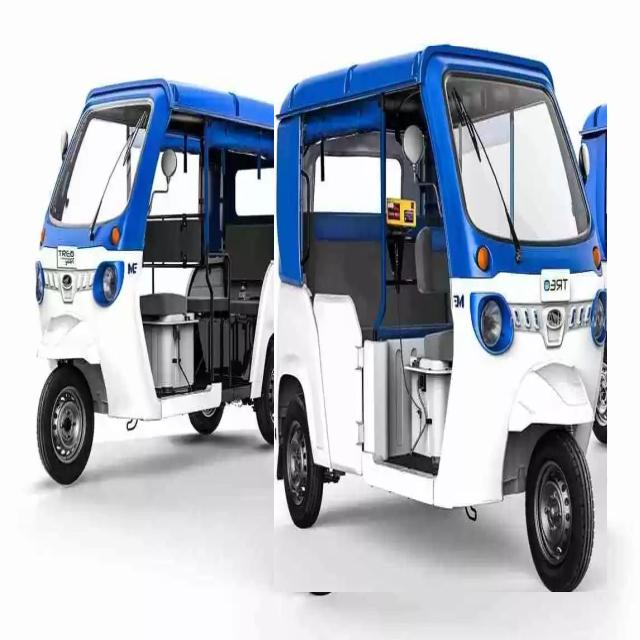autorickshaw: (275, 46, 607, 592), (35, 80, 300, 483)
